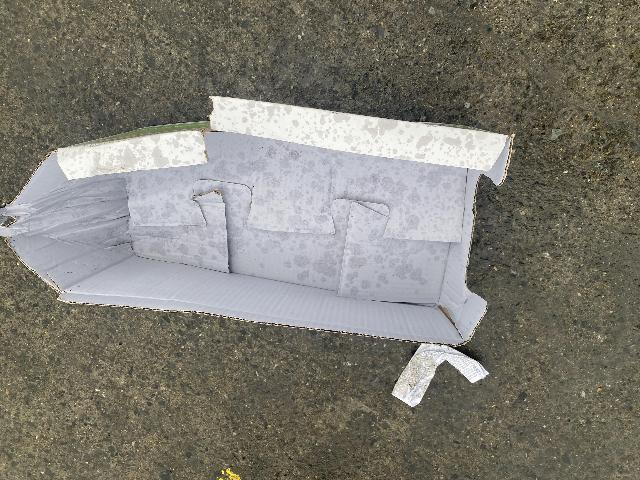Kagit: (10, 103, 527, 327), (379, 349, 506, 405)
